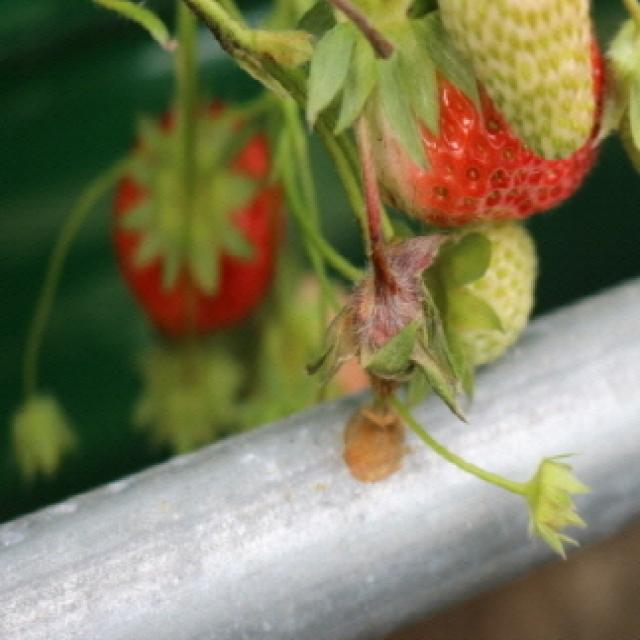Gray Mold: (326, 208, 468, 424)
